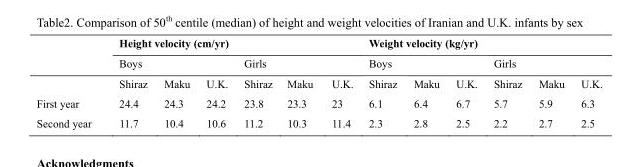table: (35, 36, 601, 128)
table column: (35, 36, 104, 128), (104, 36, 155, 128), (484, 36, 529, 128), (235, 36, 279, 128), (360, 36, 404, 128), (404, 36, 447, 128), (529, 36, 572, 128), (155, 36, 197, 128), (279, 36, 321, 128), (321, 36, 360, 128), (197, 36, 235, 128), (447, 36, 484, 128), (572, 36, 601, 128)
table column header: (35, 36, 601, 93)
table row: (35, 52, 601, 73), (35, 73, 601, 93), (35, 93, 601, 112), (35, 36, 601, 52), (35, 112, 601, 128)
table spanning cell: (104, 36, 360, 52), (360, 36, 601, 52), (104, 52, 235, 73), (235, 52, 360, 73), (360, 52, 484, 73), (484, 52, 601, 73)
